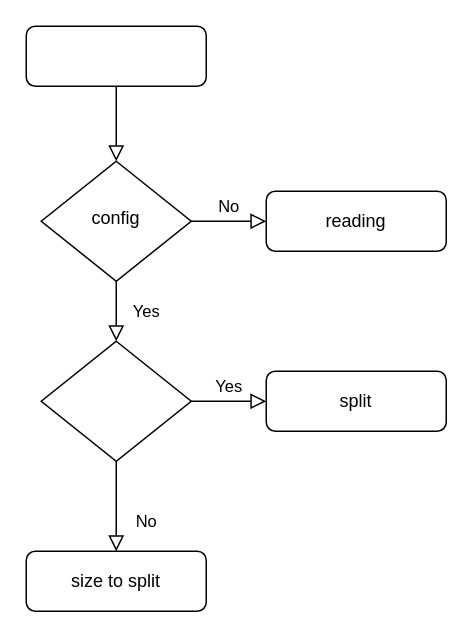
The diagram is 473 pixels wide and 638 high, and some of its shapes have lost their labels. Here are the shapes that lost their labels. From the top down, the centre of each, then its label:
At [115,55]: "Initial".
At [115,400]: "string".
